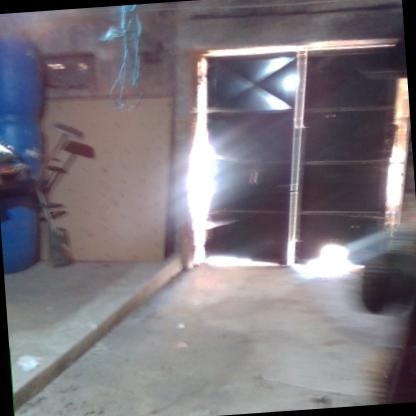closed: (189, 24, 415, 285)
